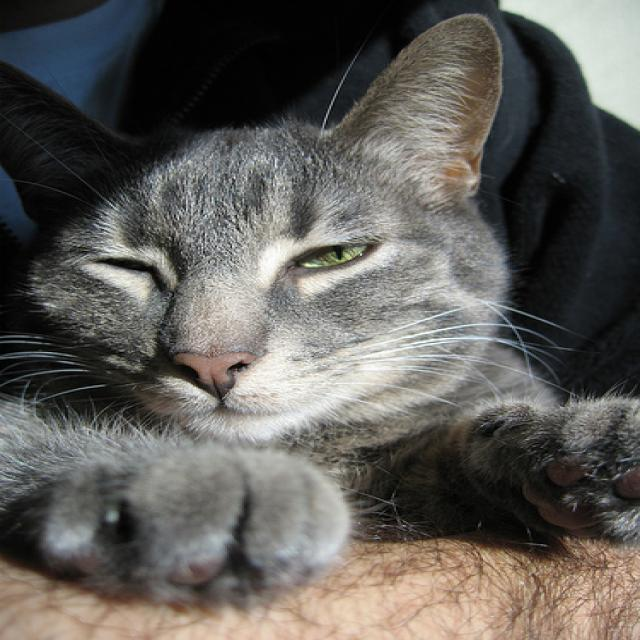cat: (5, 14, 640, 597)
